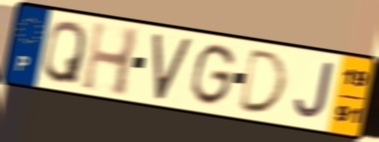D: (235, 47, 290, 116)
G: (188, 42, 238, 109)
H: (79, 19, 143, 100)
J: (291, 61, 336, 123)
Q: (40, 19, 88, 87)
V: (151, 33, 195, 103)
